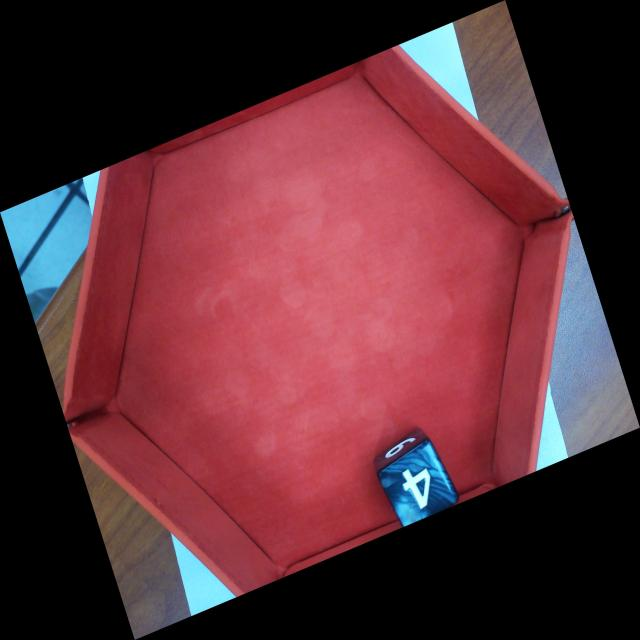dice: (379, 443, 458, 529)
